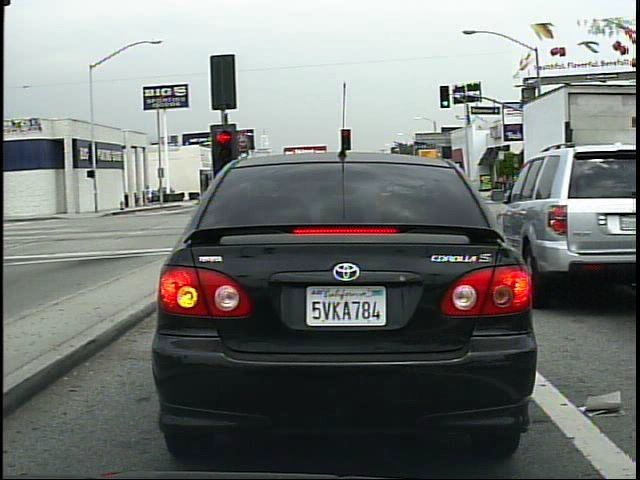person: (517, 169, 531, 202), (145, 181, 156, 209)
